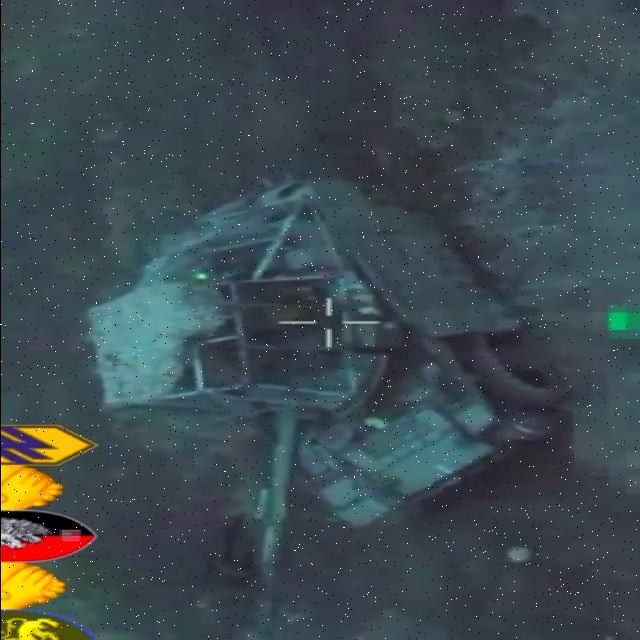TANK: (76, 172, 566, 640)
